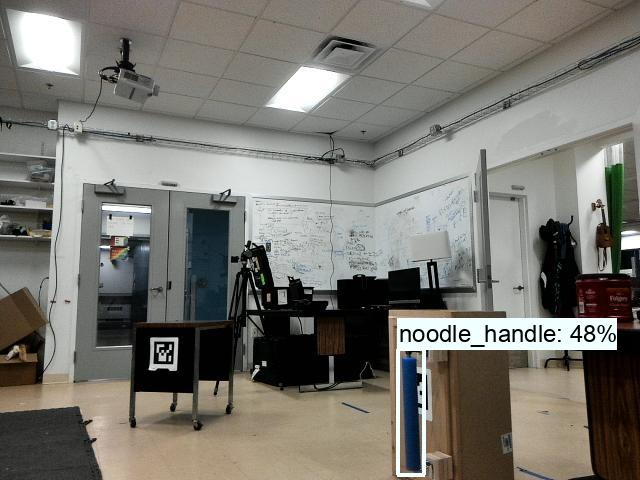noodle_handle: (397, 351, 424, 477)
